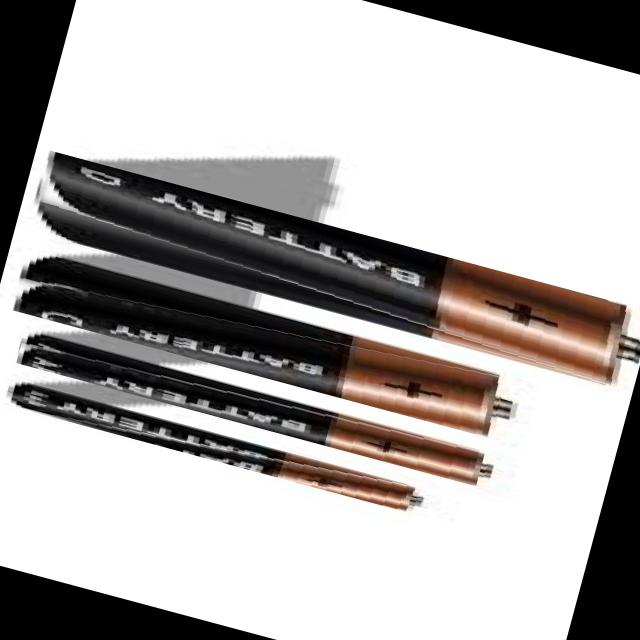Hazard: (23, 149, 640, 393), (2, 246, 528, 444), (14, 328, 504, 492), (4, 377, 428, 516)
